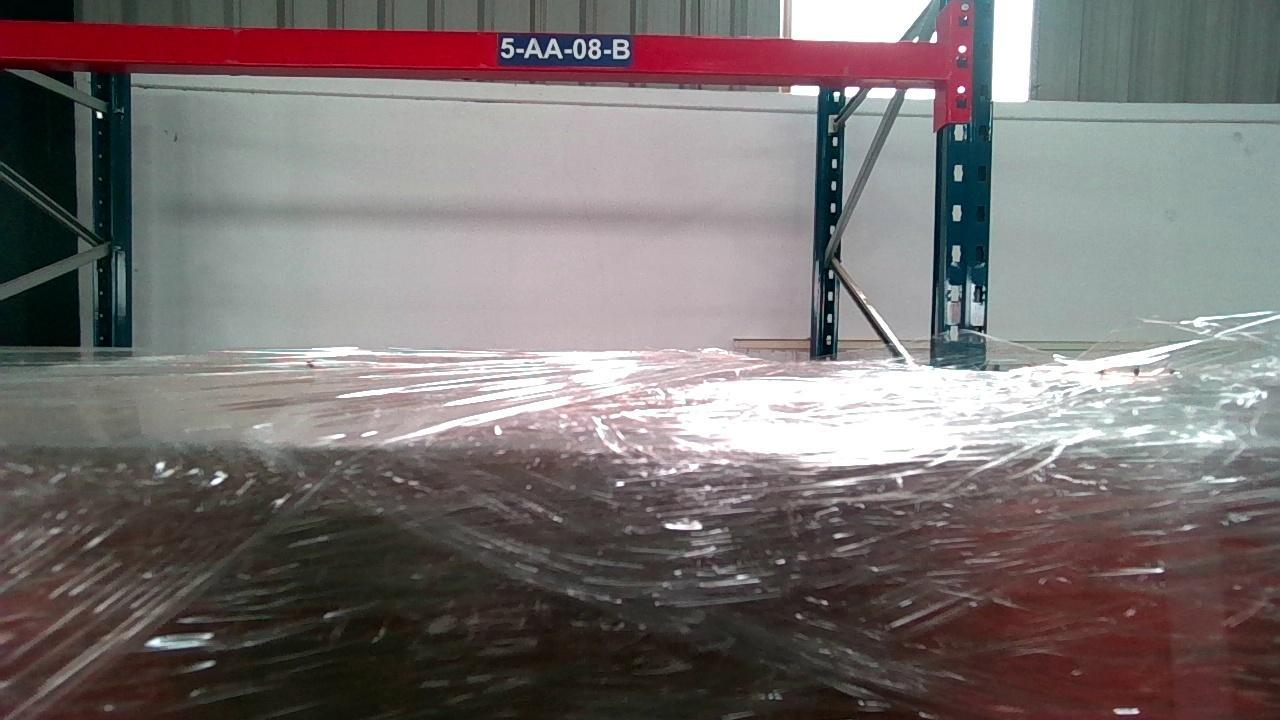h_rack: (0, 20, 943, 81)
